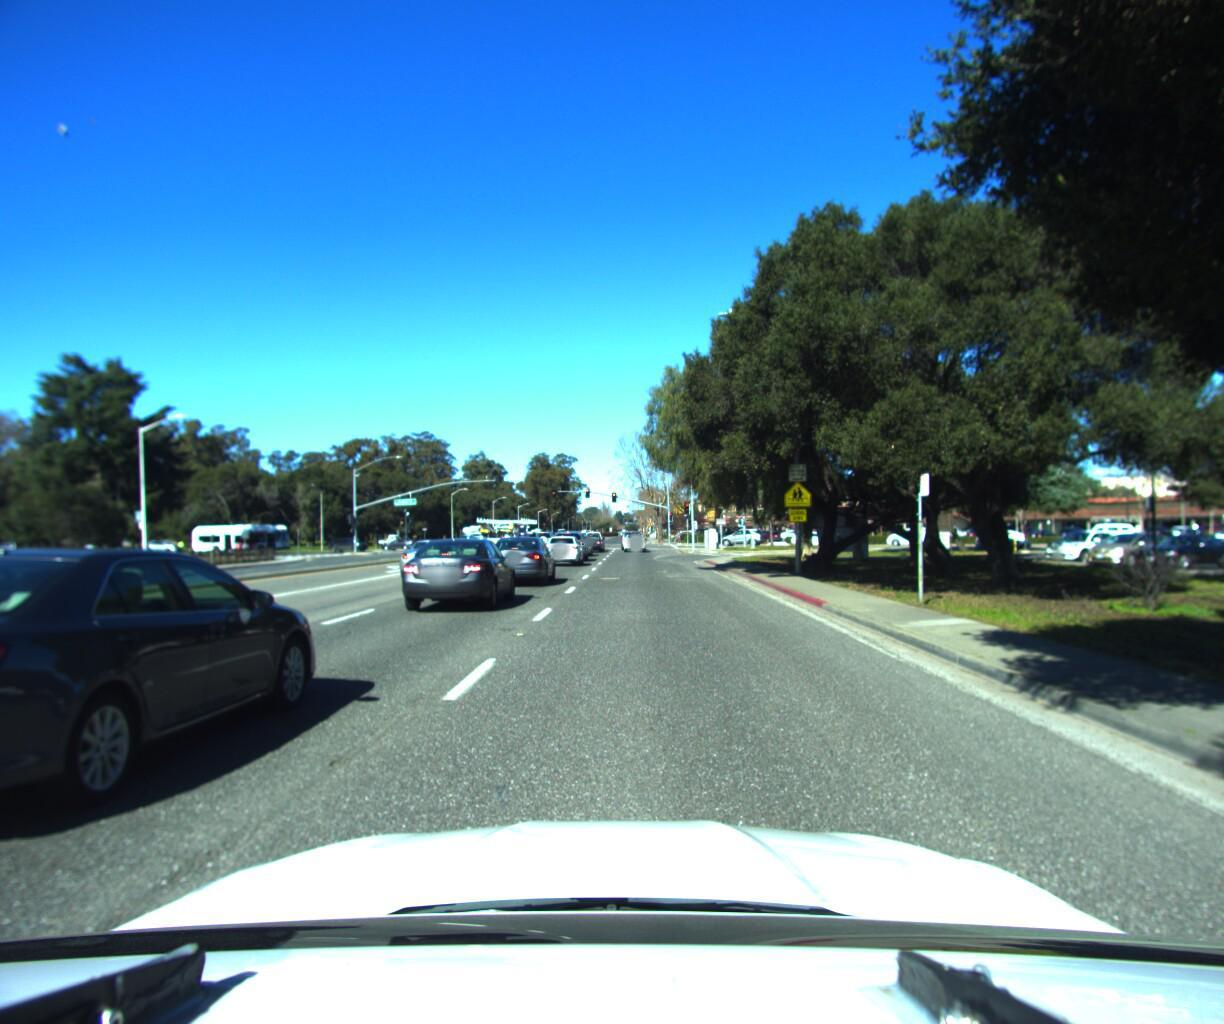car: (0, 539, 321, 886), (0, 538, 164, 752), (388, 531, 521, 617), (60, 548, 167, 592), (481, 533, 559, 587), (395, 536, 470, 579), (1064, 513, 1133, 541), (541, 531, 582, 565), (546, 528, 588, 561), (879, 522, 938, 542), (966, 525, 1030, 543), (715, 524, 770, 544), (787, 526, 841, 543), (1186, 520, 1224, 543), (529, 529, 557, 553), (620, 530, 645, 551)
other_vehicle: (476, 513, 538, 564)
